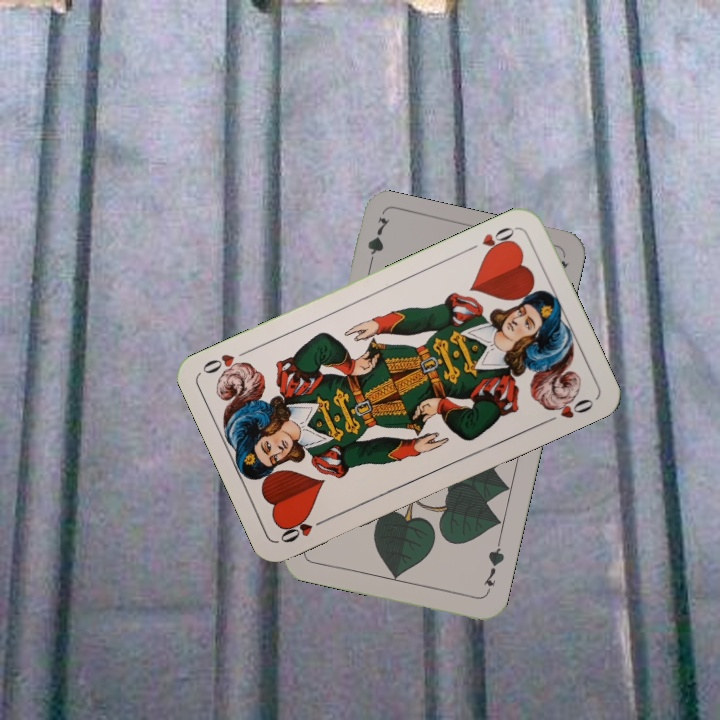G7: (363, 213, 392, 272), (479, 537, 507, 596)
HO: (463, 222, 519, 258), (276, 513, 332, 546)
